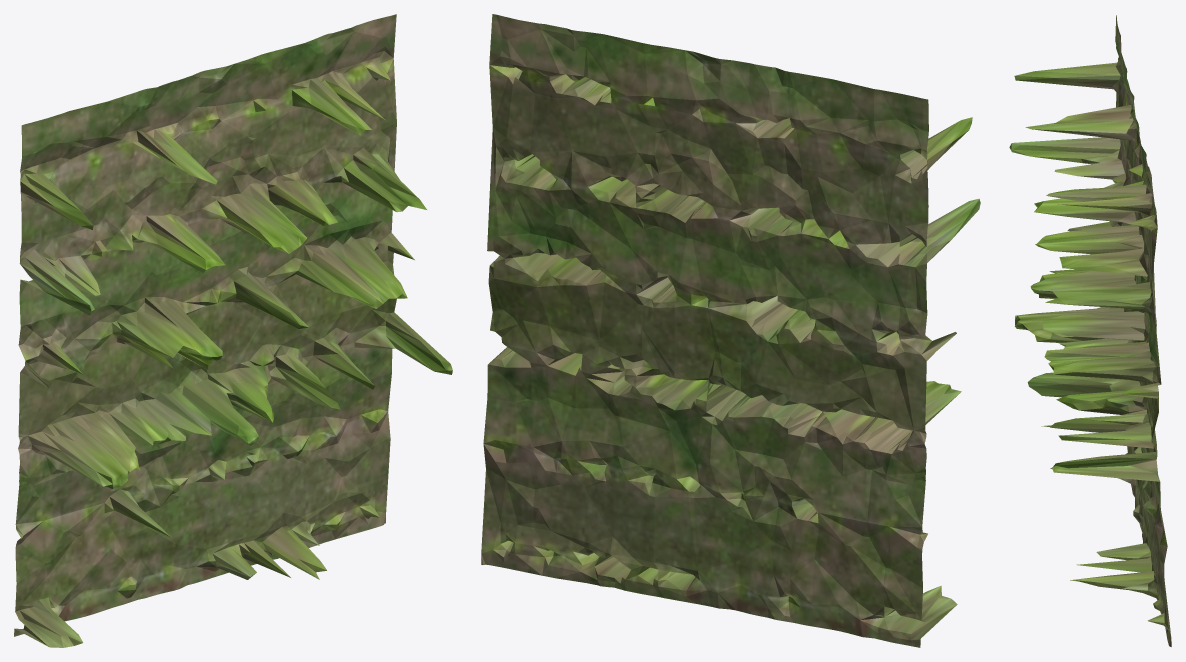
The model's file is map_100_100.obj.
3 renders of one model, left to right at view 1: azimuth 30°, elevation 25°; view 2: azimuth 150°, elevation 25°; view 3: azimuth 270°, elevation 25°, orthographic. The views are drawn at different scales.
Visible parts, largest first — view 1: grp1; view 2: grp1; view 3: grp1.
Boxes of the visible parts, x1,y1,x2,y2 form: grp1: (14, 14, 452, 647); grp1: (481, 14, 980, 647); grp1: (1009, 15, 1171, 646).
Size of the model in its own units: 8 by 10 by 3.18.
Materials: 1 (1 with a texture image).
